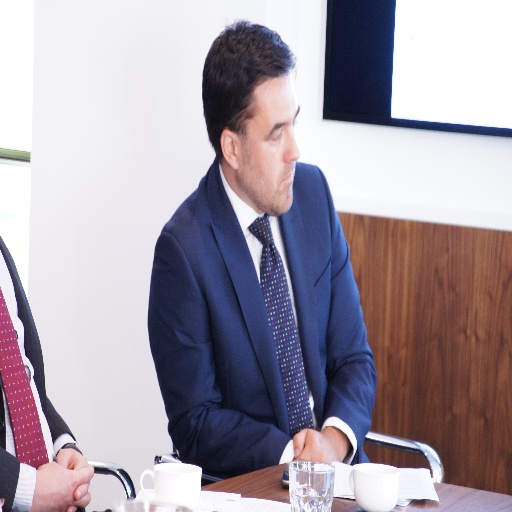hand: (52, 444, 92, 511), (292, 427, 342, 474)
